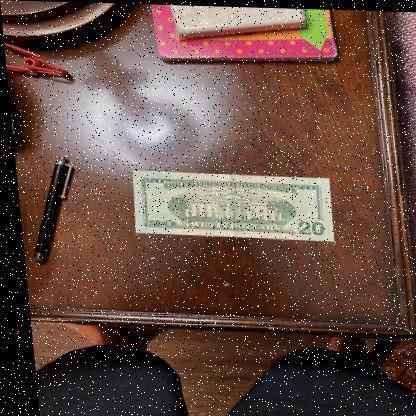twenty-back: (126, 169, 331, 240)
